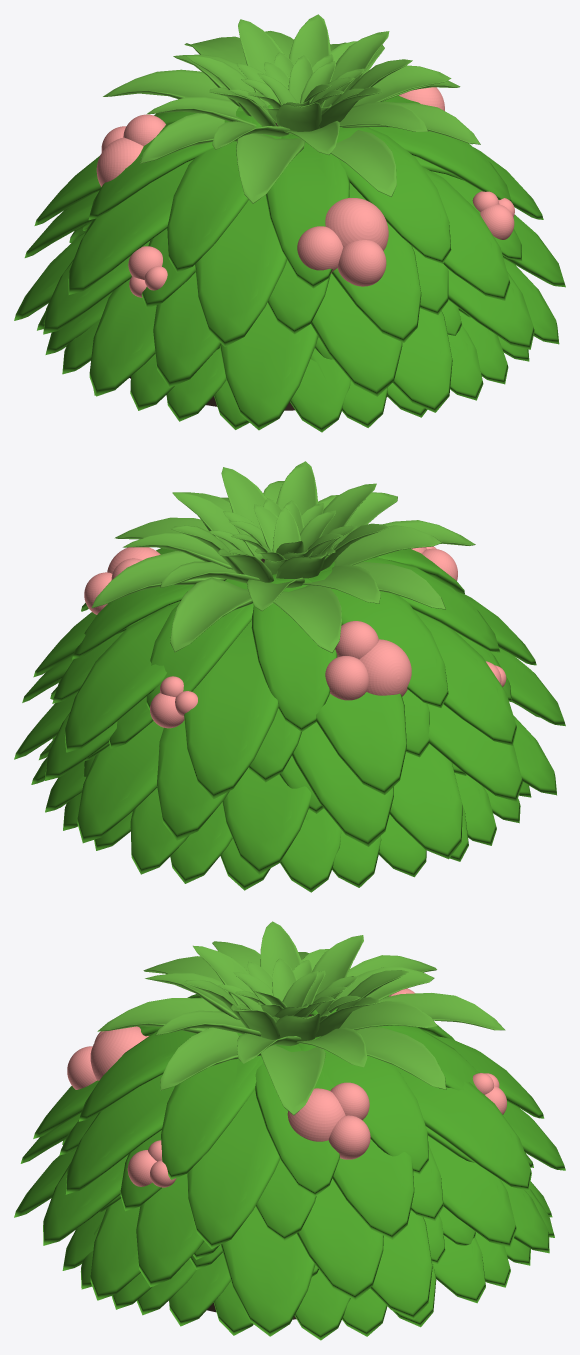
The model's file is BerryBudsFbx.fbx.
3 renders of one model, top to bottom at view 1: azimuth 30°, elevation 25°; view 2: azimuth 150°, elevation 25°; view 3: azimuth 270°, elevation 25°, orthographic.
Parts seen in each view (by area): view 1: Cube.001; view 2: Cube.001; view 3: Cube.001.
Part boxes in pixels (x1,y1,x2,y2): Cube.001: (14, 14, 565, 432); Cube.001: (14, 461, 565, 892); Cube.001: (14, 921, 565, 1340).
Size of the model in its own units: 186 by 102 by 186.
